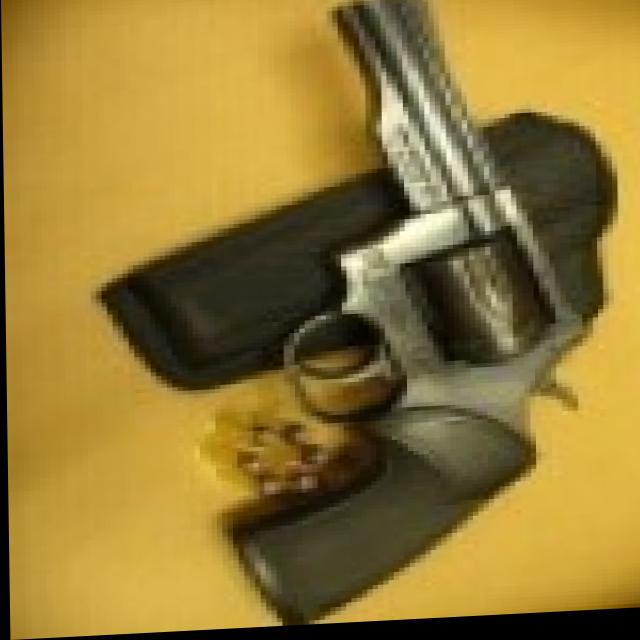handgun: (229, 0, 610, 631)
